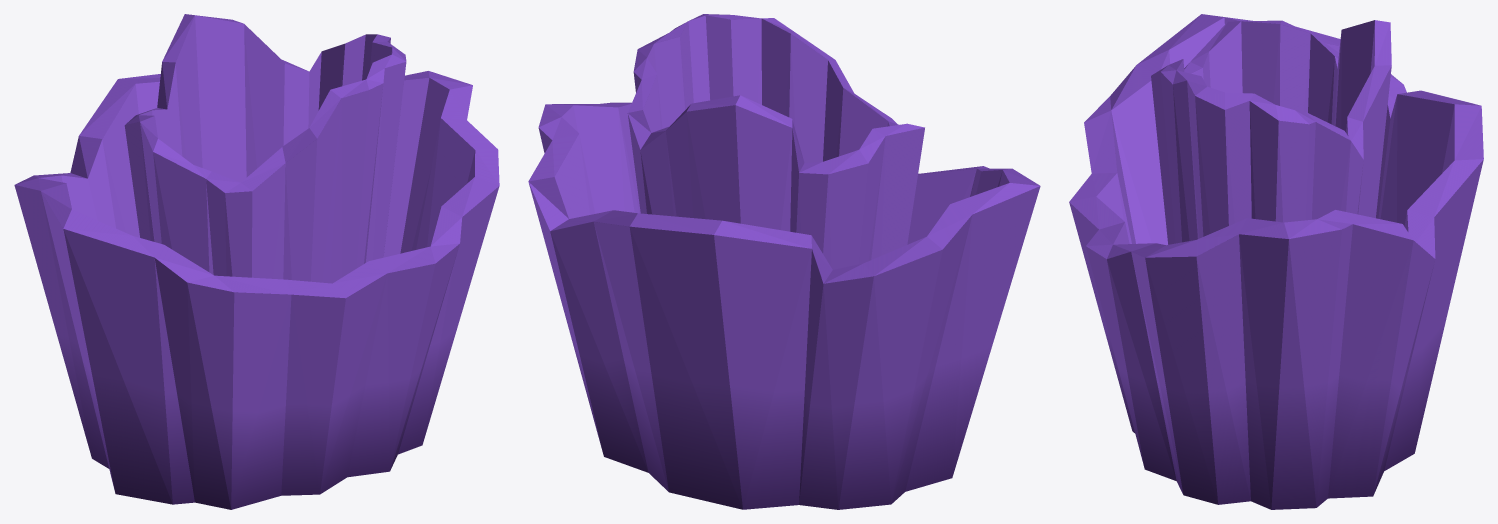
Rendered from SM_Coral_22.fbx.
The picture shows the model from 3 angles, left to right: view 1: azimuth 30°, elevation 25°; view 2: azimuth 150°, elevation 25°; view 3: azimuth 270°, elevation 25°; orthographic projection. The views are drawn at different scales.
Visible parts, largest first — view 1: Coral_22; view 2: Coral_22; view 3: Coral_22.
Part boxes in pixels (box(x1,y1,x2,y2)): Coral_22: box(14, 14, 499, 509); Coral_22: box(528, 14, 1040, 509); Coral_22: box(1069, 14, 1483, 509).
Size of the model in its own units: 137 by 115 by 106.
